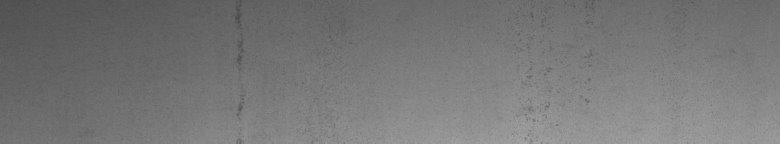ib: (521, 4, 596, 122)
